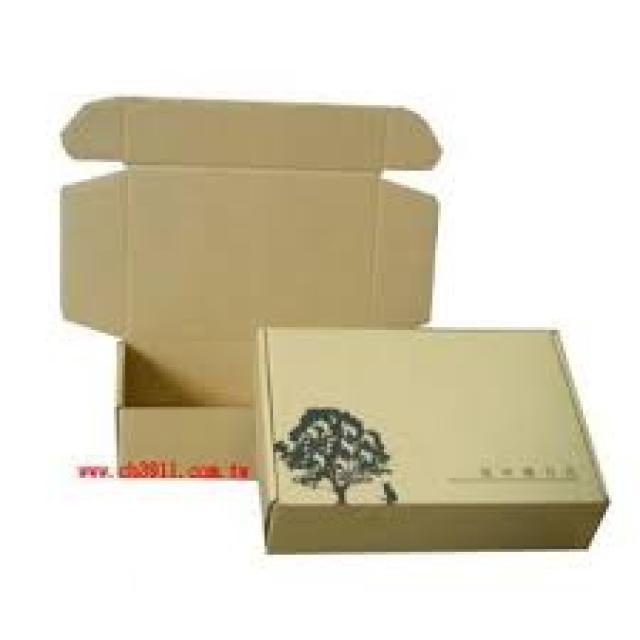Cardboard: (59, 92, 443, 482), (256, 325, 611, 553)
